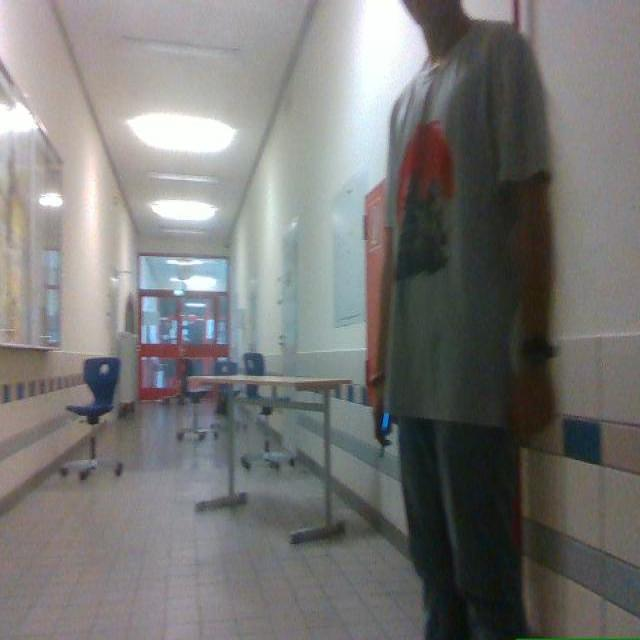humans: (372, 0, 554, 639)
objects: (195, 374, 350, 543), (67, 358, 119, 426), (241, 407, 294, 469), (176, 359, 209, 439), (114, 332, 137, 417), (212, 384, 234, 438), (215, 395, 227, 415)
